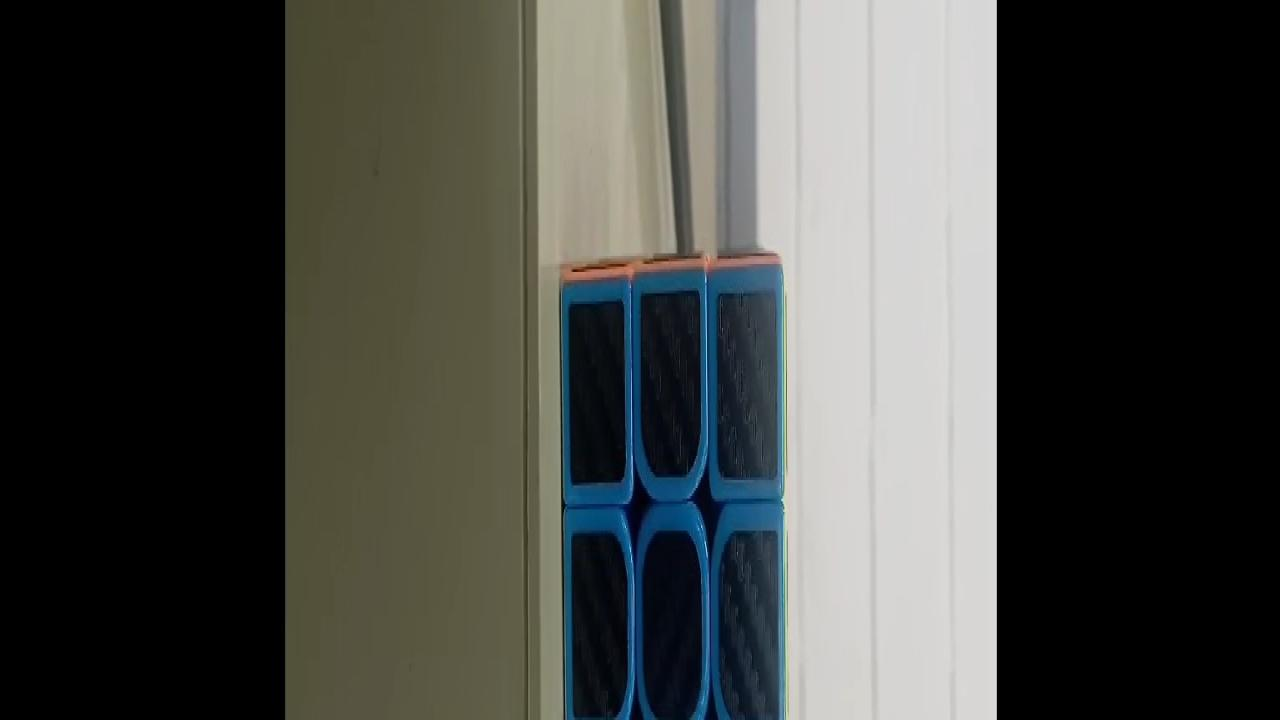Cube: (558, 245, 789, 720)
